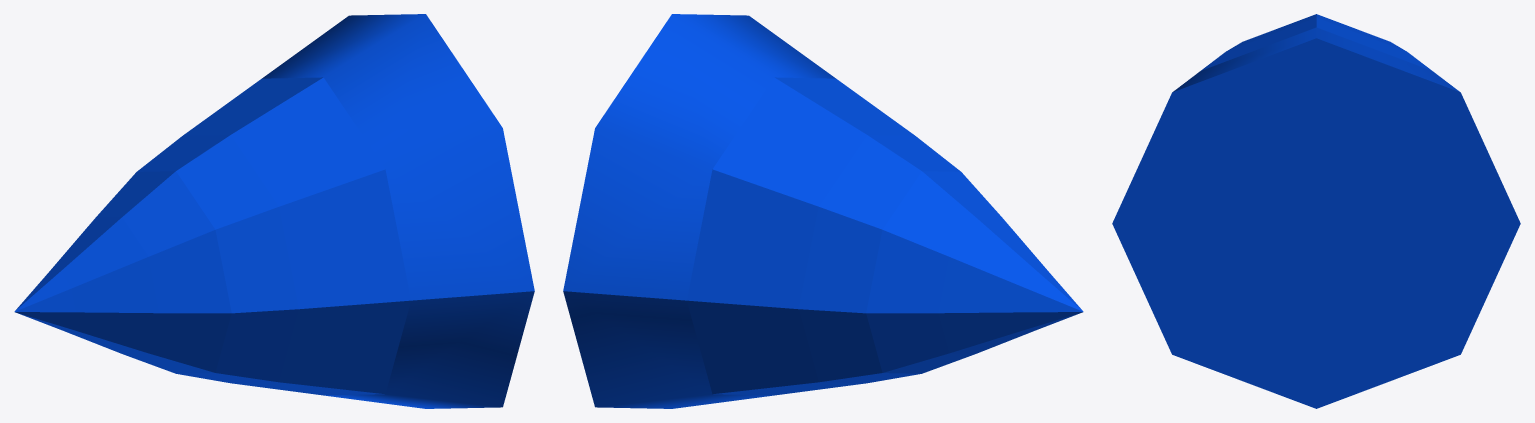
File: Nez_5.FBX
3 renders of one model, left to right at view 1: azimuth 30°, elevation 25°; view 2: azimuth 150°, elevation 25°; view 3: azimuth 270°, elevation 25°, orthographic. The views are drawn at different scales.
Parts seen in each view (by area): view 1: Object001; view 2: Object001; view 3: Object001.
Part boxes in pixels (x1,y1,x2,y2): Object001: (14,14,534,408); Object001: (563,14,1083,408); Object001: (1112,14,1520,408).
Bounding box in the file's own units: 21.95 × 20.12 × 20.09.
